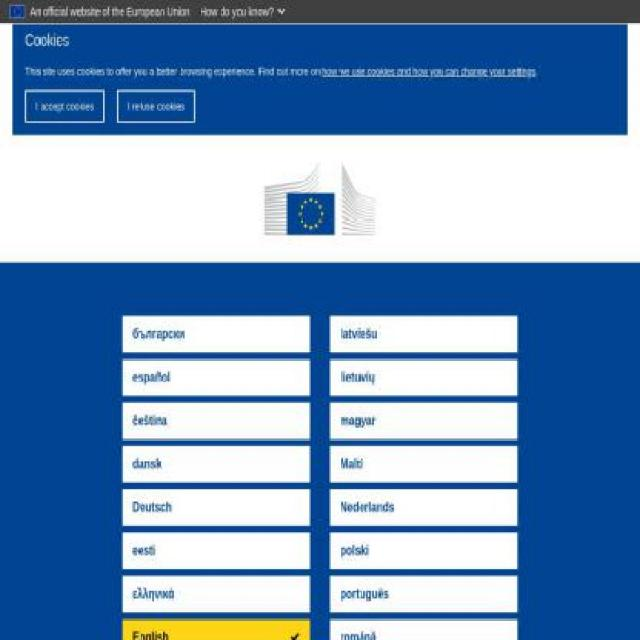button: (122, 619, 312, 639), (24, 90, 104, 122), (117, 90, 195, 122), (193, 0, 295, 23)
